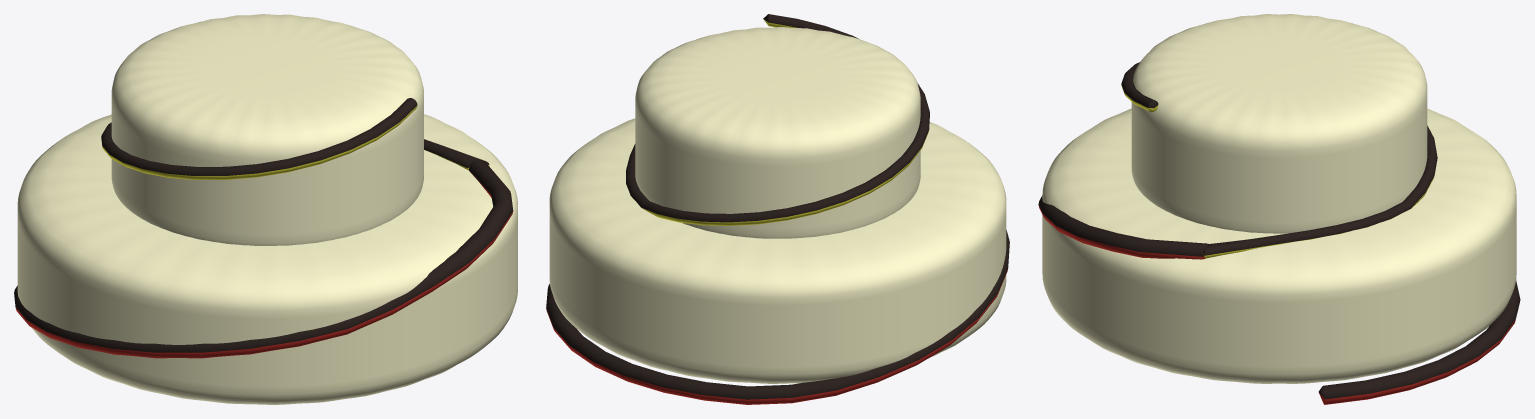
The model's file is cake.obj.
3 renders of one model, left to right at view 1: azimuth 30°, elevation 25°; view 2: azimuth 150°, elevation 25°; view 3: azimuth 270°, elevation 25°, orthographic. The views are drawn at different scales.
Visible parts, largest first — view 1: Torus.2; view 2: Torus.2; view 3: Torus.2.
Boxes of the visible parts, bbox=[...] form: Torus.2: bbox=[14, 14, 517, 404]; Torus.2: bbox=[546, 14, 1009, 404]; Torus.2: bbox=[1038, 14, 1520, 404].
Bounding box in the file's own units: 397 × 223 × 400.
